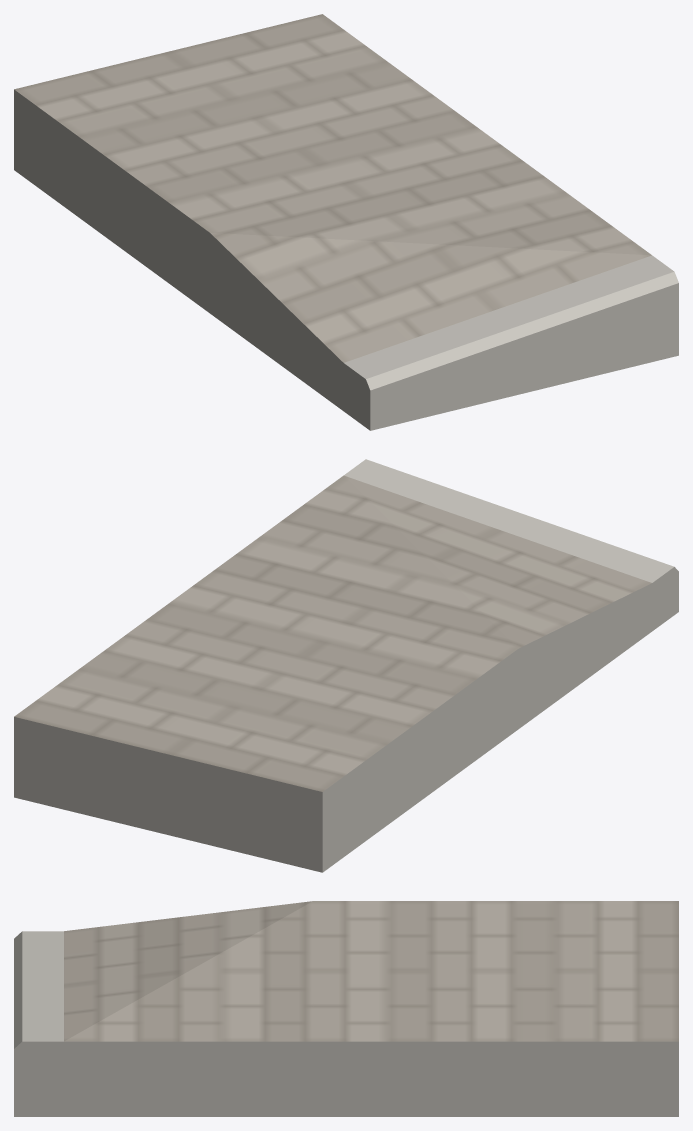
File: SM_Ground_SidewalkDriveRamp_200x100_L_01.fbx
3 views of the same model, one above another, from view 1: azimuth 30°, elevation 25°; view 2: azimuth 150°, elevation 25°; view 3: azimuth 270°, elevation 25° (orthographic). The views are drawn at different scales.
Visible parts, largest first — view 1: SM_Ground_SidewalkDriveRamp_200x100_L_01; view 2: SM_Ground_SidewalkDriveRamp_200x100_L_01; view 3: SM_Ground_SidewalkDriveRamp_200x100_L_01.
Boxes of the visible parts, x1,y1,x2,y2 form: SM_Ground_SidewalkDriveRamp_200x100_L_01: (14, 14, 678, 430); SM_Ground_SidewalkDriveRamp_200x100_L_01: (14, 459, 678, 872); SM_Ground_SidewalkDriveRamp_200x100_L_01: (14, 901, 678, 1116).
Bounding box in the file's own units: 1 × 0.25 × 2.
1 material, 1 textured.
